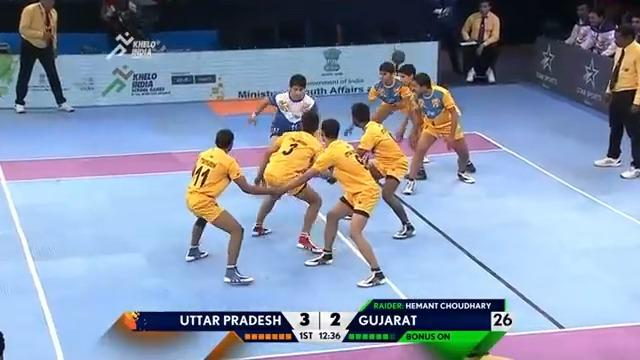Player: (181, 125, 296, 286), (292, 116, 388, 289), (345, 101, 417, 241), (400, 70, 478, 194), (370, 65, 415, 101)
Raider: (247, 77, 316, 152)
referee: (593, 23, 639, 178), (13, 0, 75, 113), (459, 0, 500, 84)
